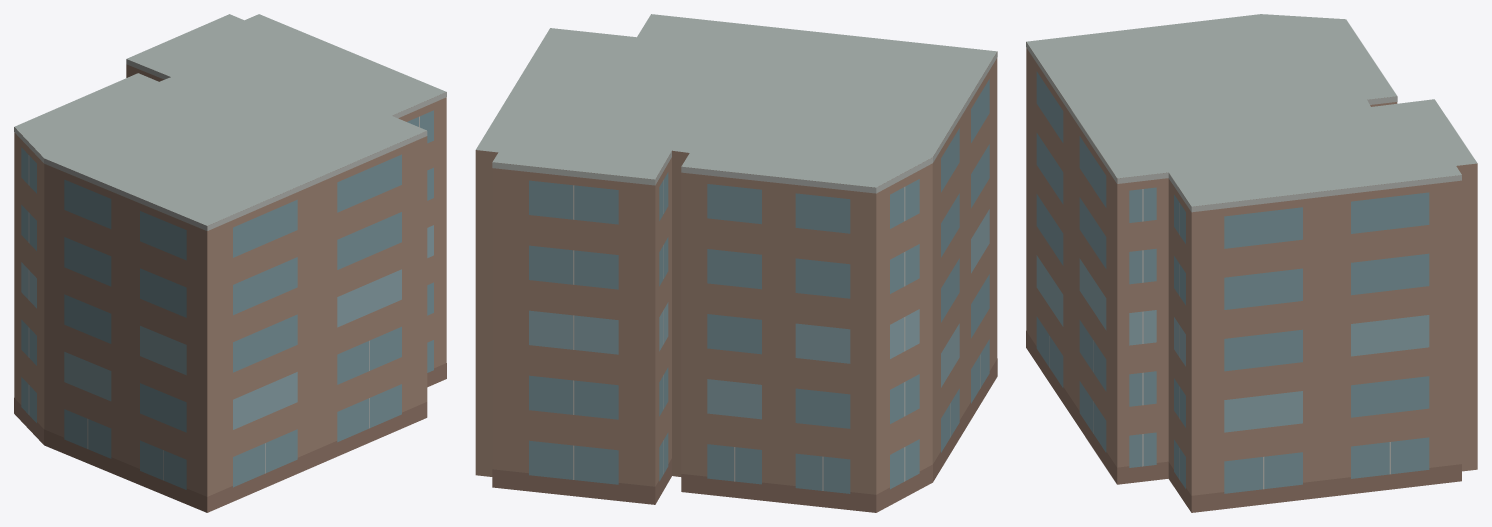
Rendered from survey-upis-32618456.glb.
The picture shows the model from 3 angles, left to right: view 1: azimuth 30°, elevation 25°; view 2: azimuth 150°, elevation 25°; view 3: azimuth 270°, elevation 25°; orthographic projection. The views are drawn at different scales.
Visible parts, largest first — view 1: survey-upis-32618456.tmp; view 2: survey-upis-32618456.tmp; view 3: survey-upis-32618456.tmp.
Part boxes in pixels (bbox=[...]): survey-upis-32618456.tmp: bbox=[14, 14, 446, 512]; survey-upis-32618456.tmp: bbox=[475, 14, 997, 512]; survey-upis-32618456.tmp: bbox=[1026, 14, 1477, 512].
Size of the model in its own units: 17.96 by 13.3 by 17.78.
